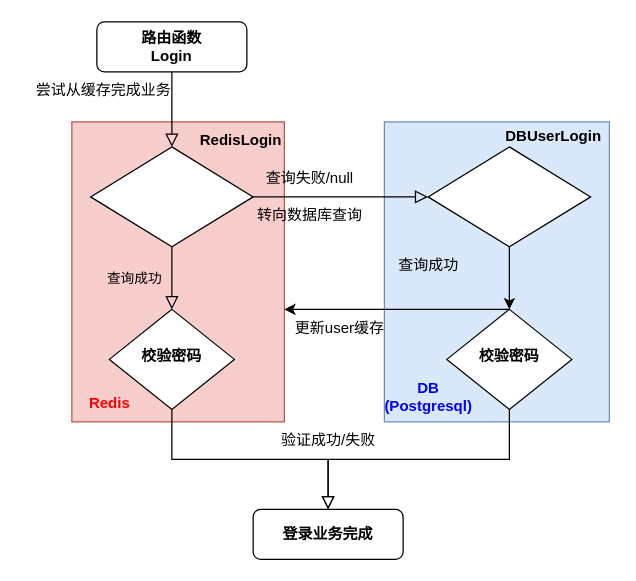
The diagram is 636 pixels wide and 581 high, and some of its shapes have lost their labels. Here are the shapes that lost their labels. From the top down, the box of each, then its label:
(89, 146, 253, 247): 通过token 在Redis中 查询user
(427, 146, 591, 247): 通过token 在数据库中 查询user
